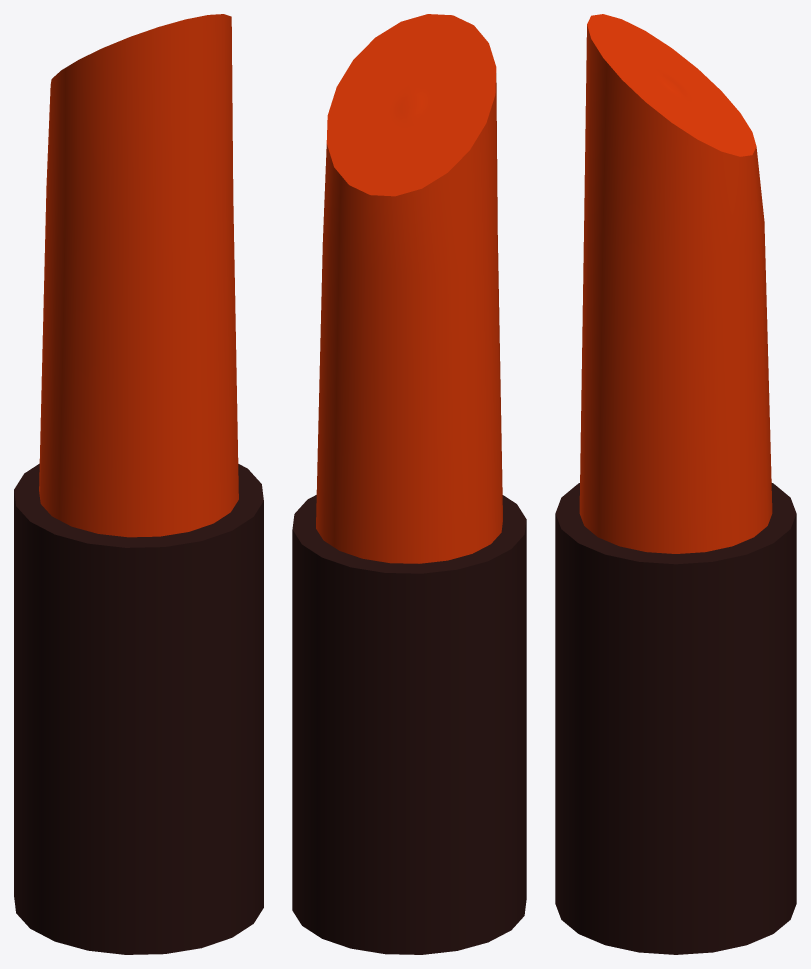
Rendered from Lipstick.fbx.
3 views of the same model, side by side, from view 1: azimuth 30°, elevation 25°; view 2: azimuth 150°, elevation 25°; view 3: azimuth 270°, elevation 25° (orthographic). The views are drawn at different scales.
Parts seen in each view (by area): view 1: pCylinder6; view 2: pCylinder6; view 3: pCylinder6.
Boxes of the visible parts, bbox=[...] form: pCylinder6: bbox=[14, 14, 263, 954]; pCylinder6: bbox=[292, 14, 526, 954]; pCylinder6: bbox=[555, 14, 796, 954].
Bounding box in the file's own units: 3.47 × 13.96 × 3.47.
